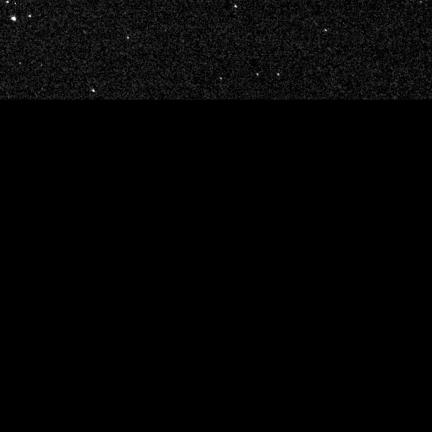blob: (11, 17, 17, 22), (28, 15, 32, 18), (92, 90, 96, 93), (235, 5, 238, 9), (127, 37, 130, 40), (257, 73, 260, 76), (277, 73, 280, 76), (325, 30, 327, 32)
